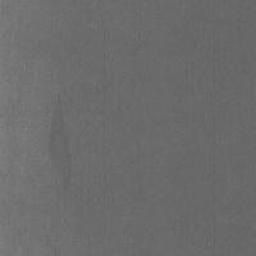Inclusion: (47, 97, 74, 193)
